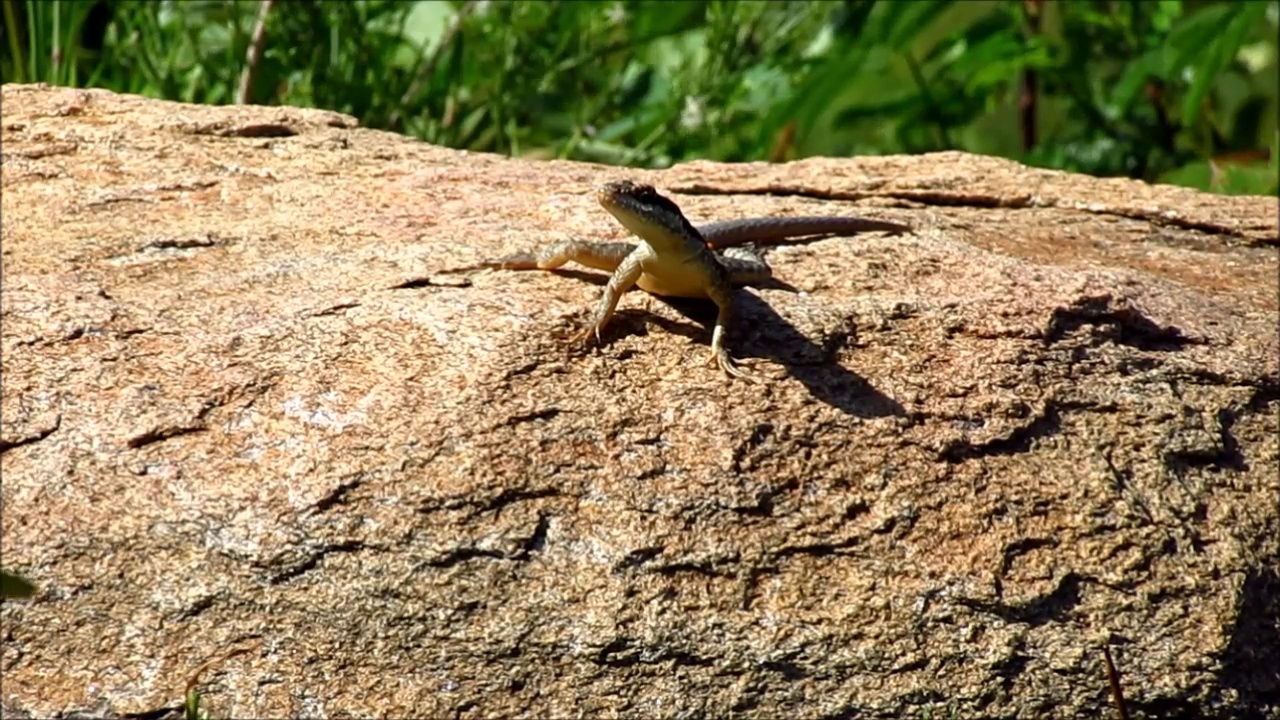body: (479, 216, 909, 380)
head: (597, 178, 673, 237)
